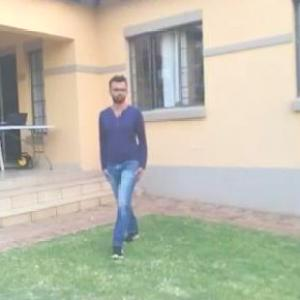follow: (92, 66, 150, 262)
